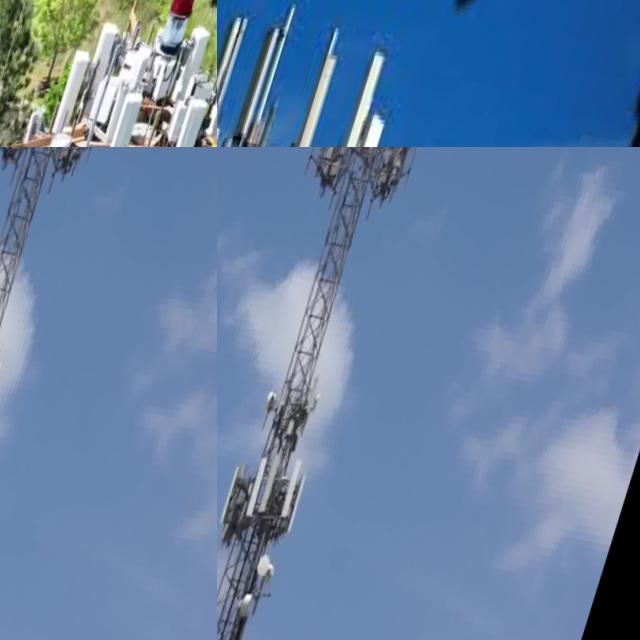GSM Antenna: (233, 25, 287, 147), (75, 12, 131, 121), (70, 79, 159, 147), (217, 5, 255, 147), (332, 54, 388, 147), (132, 88, 217, 147), (53, 40, 100, 138), (294, 56, 344, 147), (218, 461, 255, 542), (330, 103, 394, 147), (284, 466, 319, 546), (275, 462, 309, 539), (244, 455, 278, 529), (2, 106, 58, 147), (258, 454, 289, 524)
Microwave Antenna: (261, 552, 285, 589), (242, 590, 268, 623), (265, 390, 284, 423), (312, 392, 330, 425), (0, 361, 15, 391), (271, 565, 288, 586)
